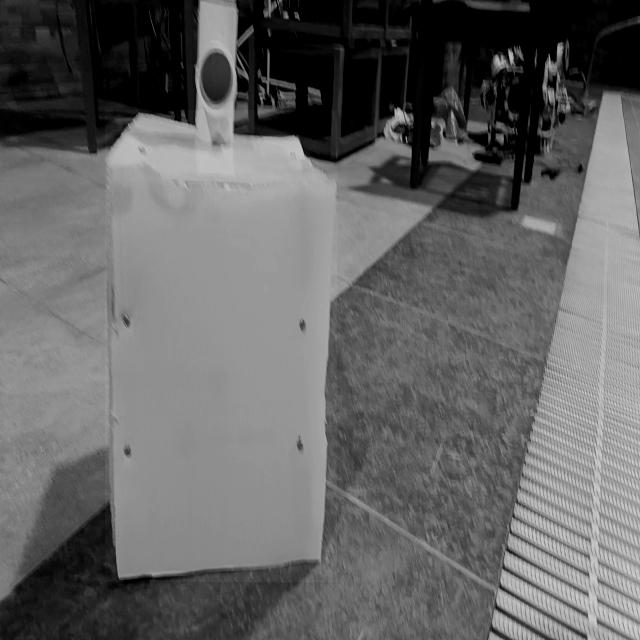Cube: (105, 110, 337, 582)
